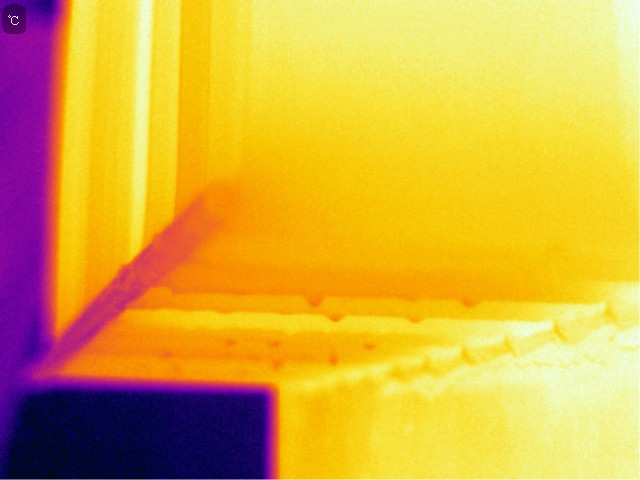Oil: (301, 290, 326, 308), (267, 356, 288, 377), (215, 330, 236, 350), (264, 334, 284, 350), (463, 295, 481, 311), (409, 312, 426, 328), (324, 352, 341, 364), (328, 311, 344, 323), (364, 342, 375, 352)
